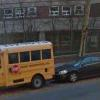buses: (0, 41, 58, 88)
